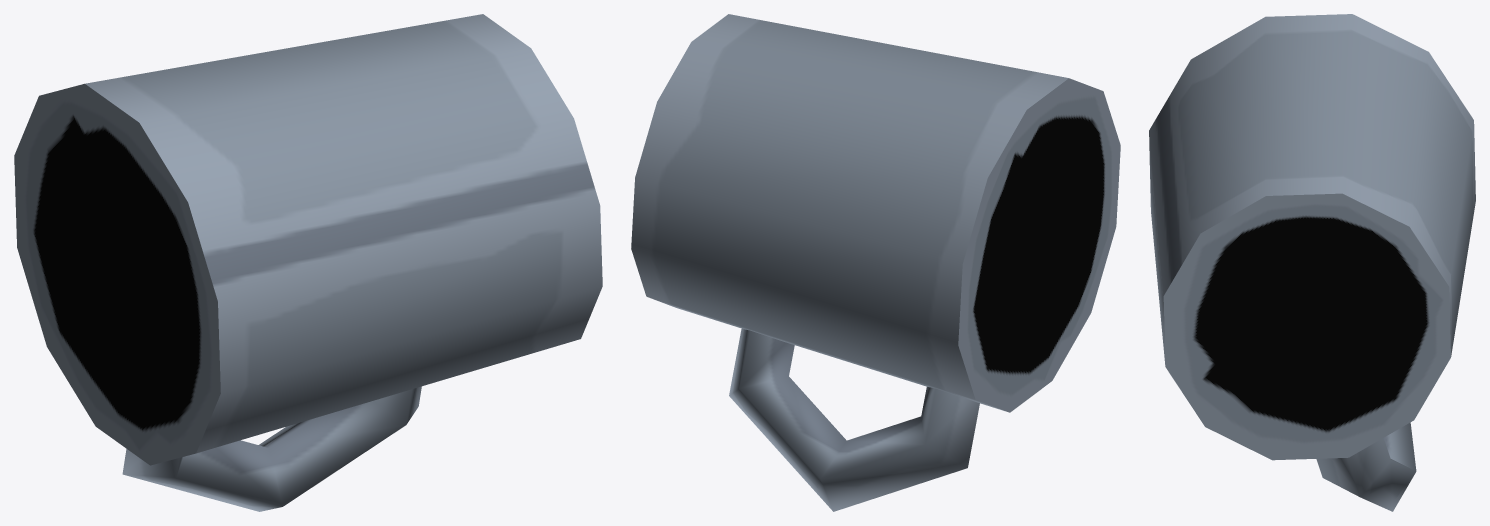
File: HandCuffLeft.fbx
The picture shows the model from 3 angles, left to right: view 1: azimuth 30°, elevation 25°; view 2: azimuth 150°, elevation 25°; view 3: azimuth 270°, elevation 25°; orthographic projection. The views are drawn at different scales.
Visible parts, largest first — view 1: HandcuffLeft; view 2: HandcuffLeft; view 3: HandcuffLeft.
Part boxes in pixels (left/top/right/bottom): HandcuffLeft: left=14, top=14, right=602, bottom=511; HandcuffLeft: left=631, top=14, right=1120, bottom=511; HandcuffLeft: left=1149, top=14, right=1475, bottom=511.
Bounding box in the file's own units: 12.98 × 14.99 × 10.67.
